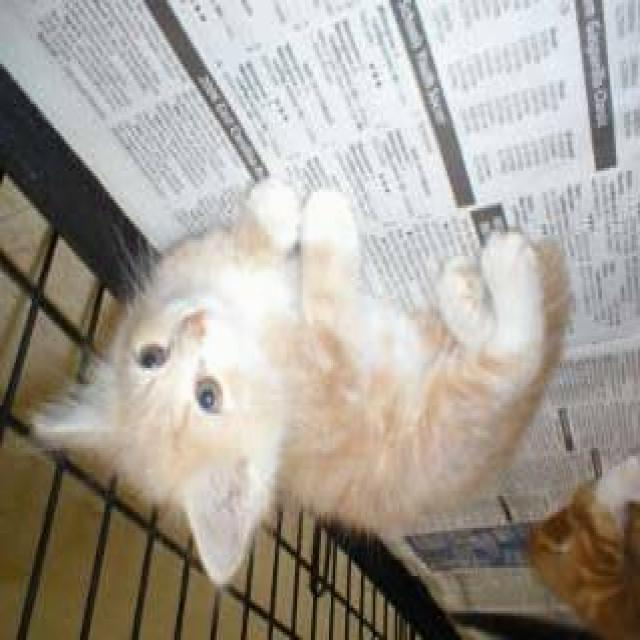Kucing: (2, 108, 618, 602)
